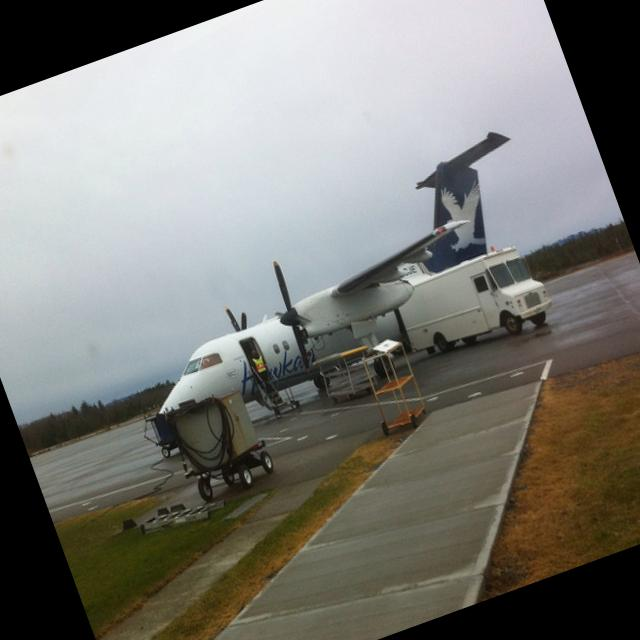Vehicle: (390, 238, 560, 370)
